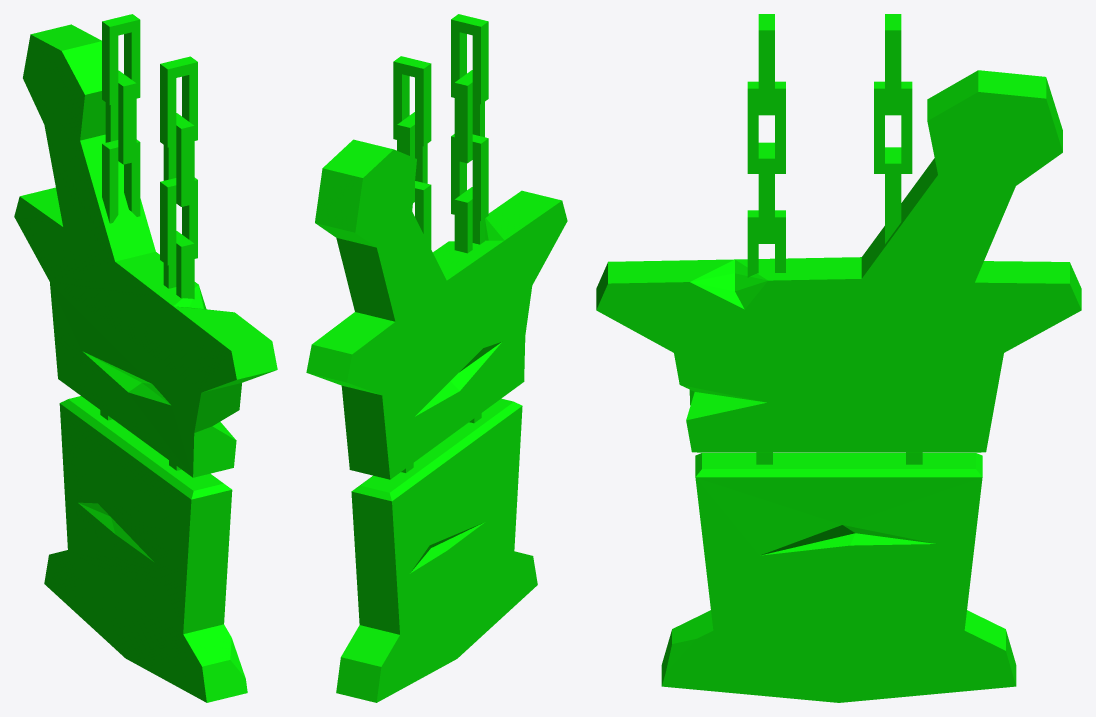
Rendered from SM_Signboard_Apothecary_Fantasy.fbx.
3 renders of one model, left to right at view 1: azimuth 30°, elevation 25°; view 2: azimuth 150°, elevation 25°; view 3: azimuth 270°, elevation 25°, orthographic. The views are drawn at different scales.
Parts seen in each view (by area): view 1: signboard-apothecary-fantasy; view 2: signboard-apothecary-fantasy; view 3: signboard-apothecary-fantasy.
Boxes of the visible parts, left/top/right/bottom form: signboard-apothecary-fantasy: left=14, top=14, right=277, bottom=702; signboard-apothecary-fantasy: left=306, top=14, right=567, bottom=702; signboard-apothecary-fantasy: left=596, top=14, right=1081, bottom=702.
Bounding box in the file's own units: 0.09 × 1.29 × 0.8493.
